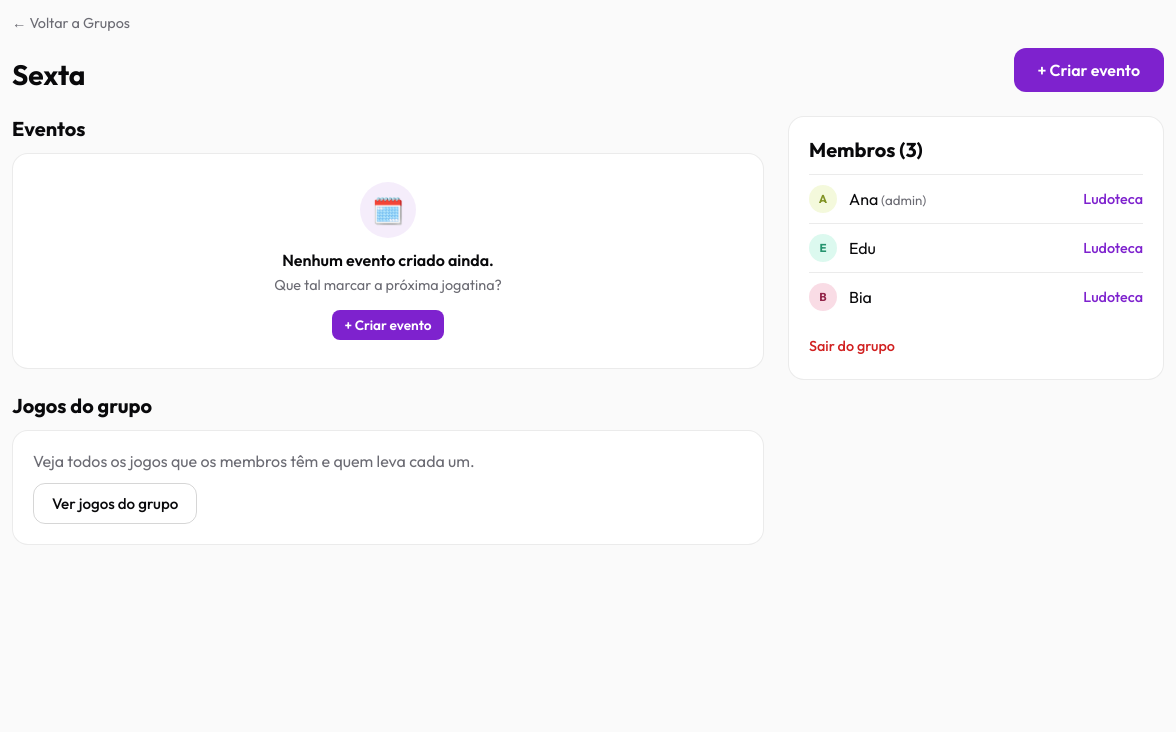
Test: Grupo — jogos do grupo › mostra cada jogo uma vez, com quem tem e os dados do jogo
Check: the heading "Sexta" is shown, box top-left (12, 58), bottom-right (85, 92)
Click the button "Ver jogos do grupo".
click(115, 504)  # box top-left (33, 483), bottom-right (197, 524)
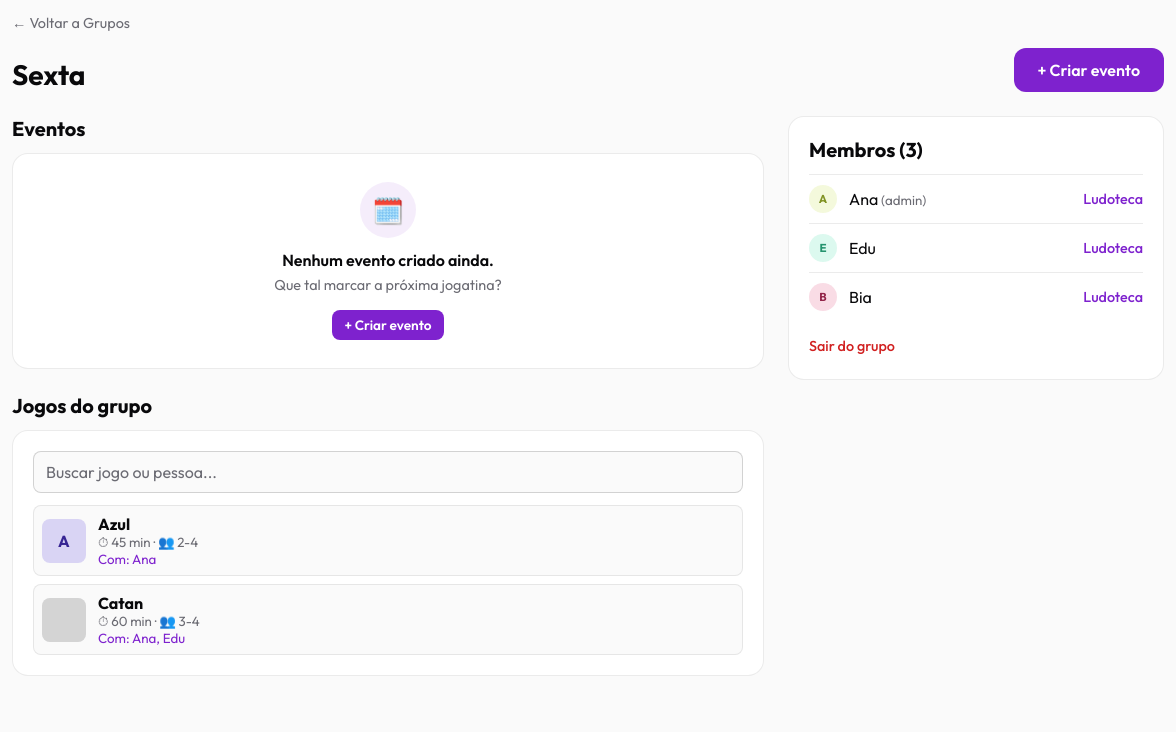
Check: the text "Com: Ana, Edu" is shown, box top-left (98, 630), bottom-right (200, 646)
Check: the text "Com: Ana" is shown, box top-left (98, 551), bottom-right (156, 567)
Check: the text "⏱ 60 min · 👥 3-4" is shown, box top-left (98, 613), bottom-right (200, 630)
